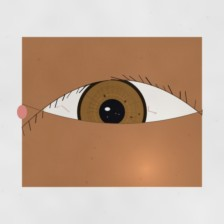pinguecula_lesion: (22, 93, 55, 119)
